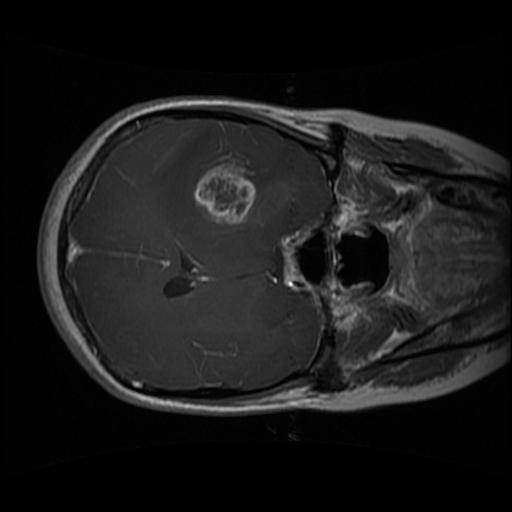glioma: (189, 151, 285, 232)
